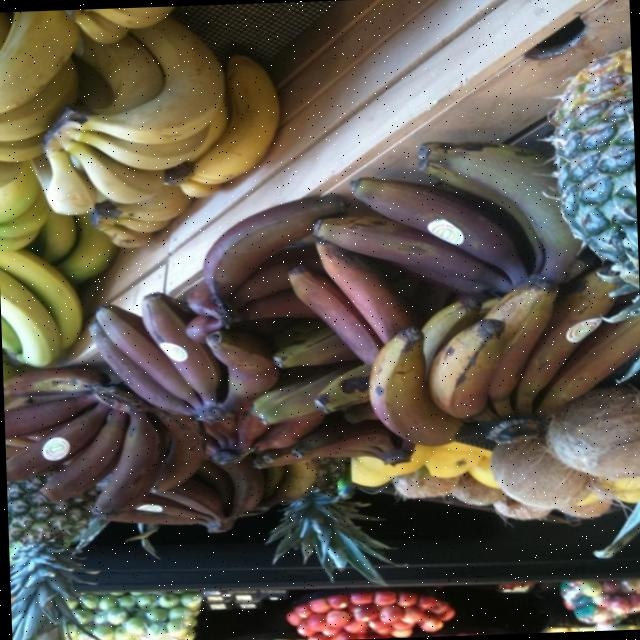banana: (89, 25, 222, 137)
